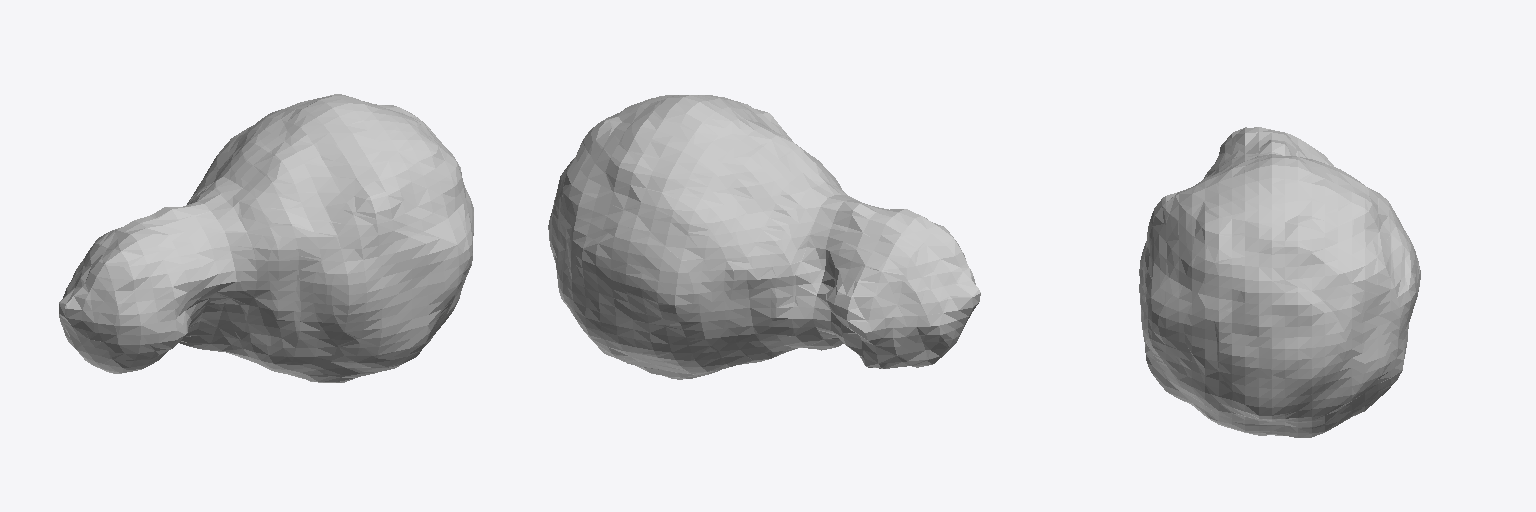
File: rock_3.obj
3 renders of one model, left to right at view 1: azimuth 30°, elevation 25°; view 2: azimuth 150°, elevation 25°; view 3: azimuth 270°, elevation 25°, orthographic.
Parts seen in each view (by area): view 1: rock3; view 2: rock3; view 3: rock3.
Boxes of the visible parts, box(x1,y1,x2,y2) form: rock3: box(59, 94, 473, 382); rock3: box(548, 95, 980, 379); rock3: box(1139, 127, 1420, 437).
Bounding box in the file's own units: 4.35 × 2.76 × 2.62.